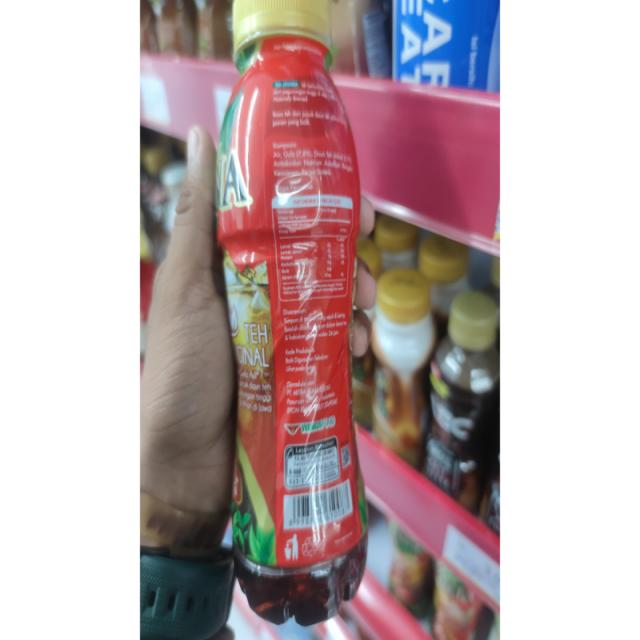botol: (170, 1, 414, 640)
